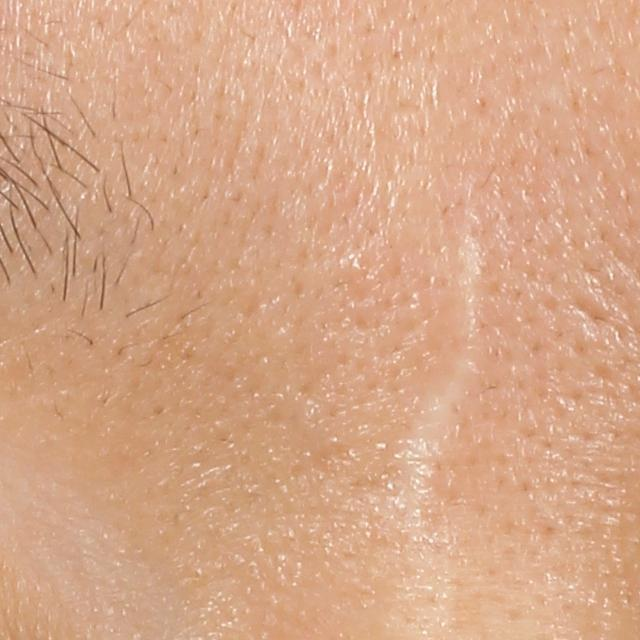other: (384, 199, 504, 557)
